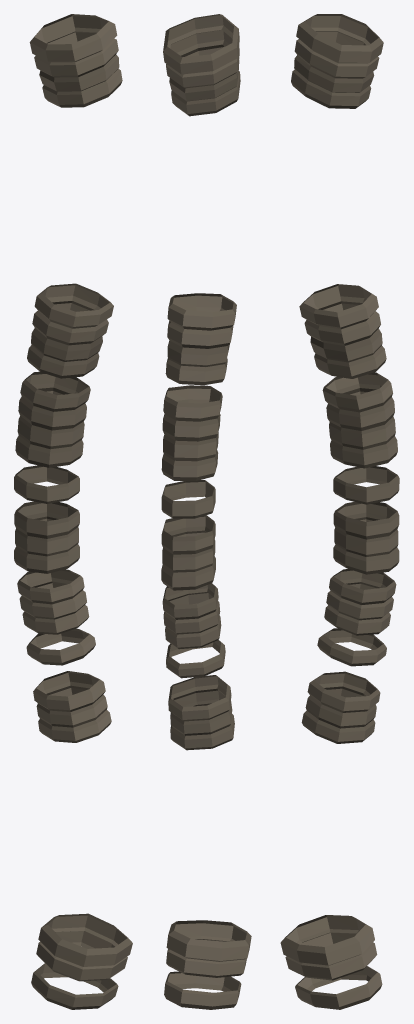
File: mediumBowSimpleHandle.glb
The picture shows the model from 3 angles, left to right: view 1: azimuth 90°, elevation 25°; view 2: azimuth 150°, elevation 25°; view 3: azimuth 270°, elevation 25°; orthographic projection.
Visible parts, largest first — view 1: mediumBowSimpleHandle; view 2: mediumBowSimpleHandle; view 3: mediumBowSimpleHandle.
Part boxes in pixels (<box>): mediumBowSimpleHandle: <box>14,14,132,1009</box>; mediumBowSimpleHandle: <box>161,14,251,1009</box>; mediumBowSimpleHandle: <box>280,14,399,1009</box>.
Size of the model in its own units: 0.0602 by 0.7143 by 0.0787.
